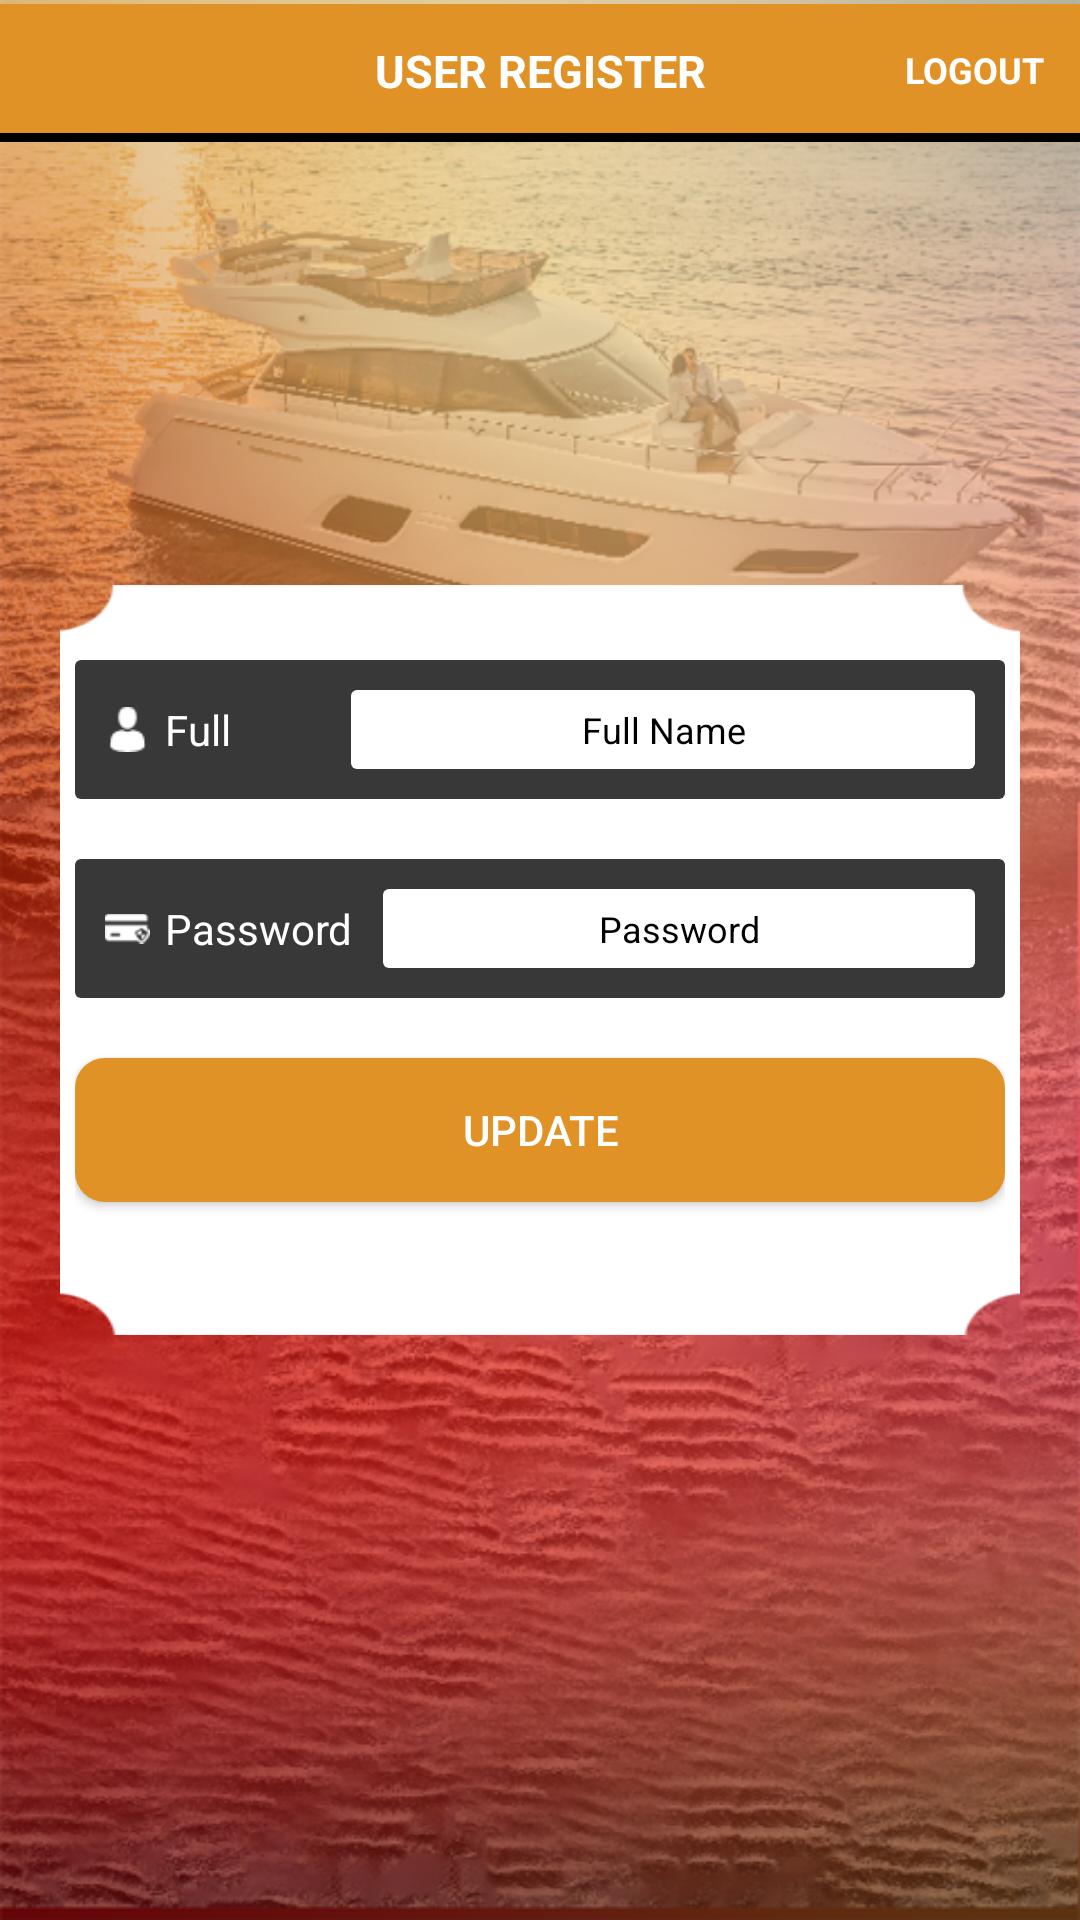

Screen size 1080w x 1920h. Icon name, then its box in pixels as region(x1, y1, x2, y2):
ccvcode: region(105, 914, 150, 944)
your name: region(110, 707, 145, 752)
